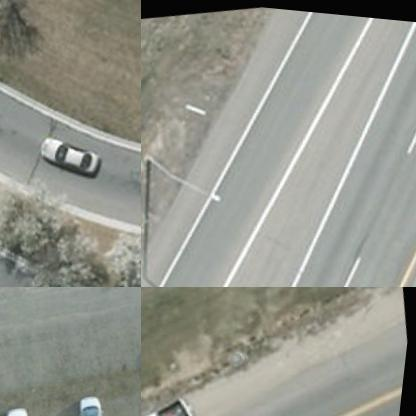car: (40, 118, 116, 182), (141, 384, 211, 415), (81, 389, 120, 415)
